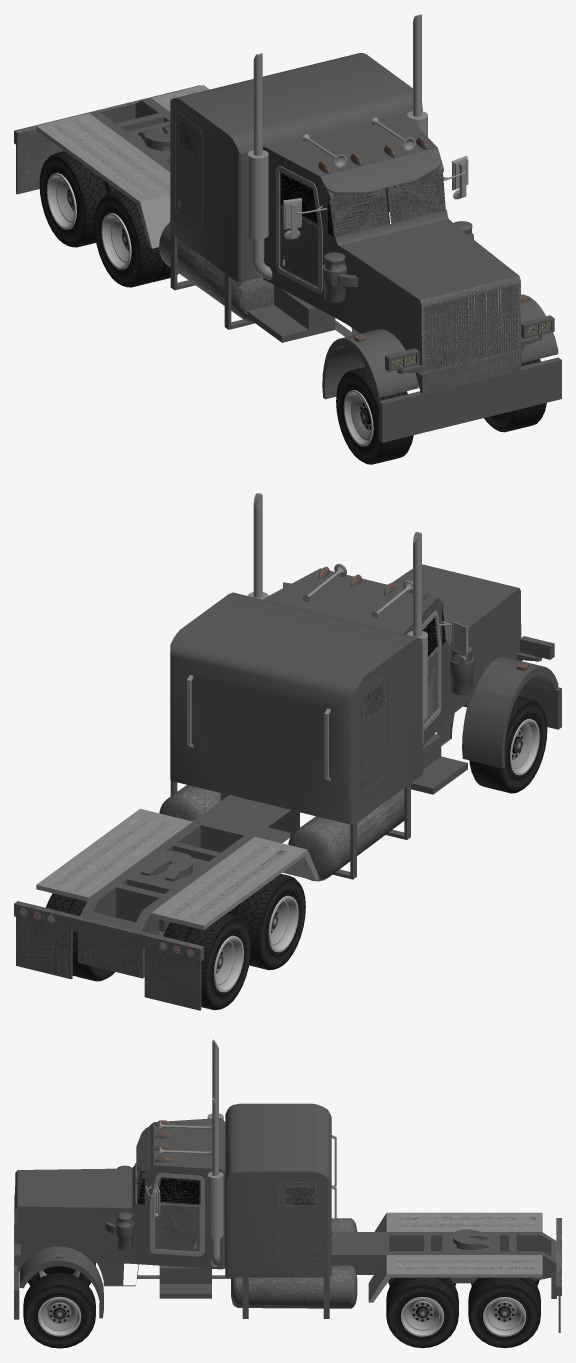
The model's file is Truck.FBX.
The picture shows the model from 3 angles, top to bottom: view 1: azimuth 30°, elevation 25°; view 2: azimuth 150°, elevation 25°; view 3: azimuth 270°, elevation 25°; orthographic projection. The views are drawn at different scales.
Visible parts, largest first — view 1: Truck, Wheel_RR, Wheel_RR1, Wheel_FR, Wheel_FL; view 2: Truck, Wheel_RR1, Wheel_RR, Wheel_FR, Wheel_RL1; view 3: Truck, Wheel_RL1, Wheel_RL, Wheel_FL, Wheel_FR.
Part boxes in pixels (x1=…): Truck: x1=14, y1=14, x2=561, y2=442; Wheel_RR: x1=39, y1=151, x2=118, y2=247; Wheel_RR1: x1=94, y1=191, x2=178, y2=287; Wheel_FR: x1=336, y1=367, x2=413, y2=464; Wheel_FL: x1=484, y1=358, x2=546, y2=432; Truck: x1=14, y1=493, x2=561, y2=1010; Wheel_RR1: x1=226, y1=874, x2=305, y2=970; Wheel_RR: x1=163, y1=914, x2=251, y2=1010; Wheel_FR: x1=469, y1=695, x2=547, y2=793; Wheel_RL1: x1=45, y1=893, x2=114, y2=981; Truck: x1=14, y1=1039, x2=561, y2=1332; Wheel_RL1: x1=468, y1=1277, x2=540, y2=1348; Wheel_RL: x1=386, y1=1277, x2=458, y2=1348; Wheel_FL: x1=23, y1=1272, x2=95, y2=1348; Wheel_FR: x1=27, y1=1263, x2=95, y2=1285.
Bounding box in the file's own units: 431 × 723 × 1440.
Materials: 13 (3 with a texture image).
